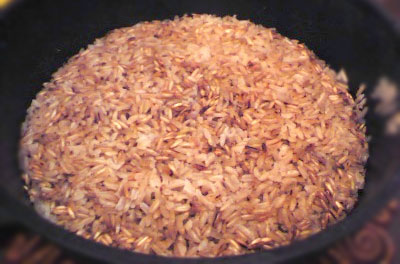Nasi Merah: (1, 30, 360, 242)
